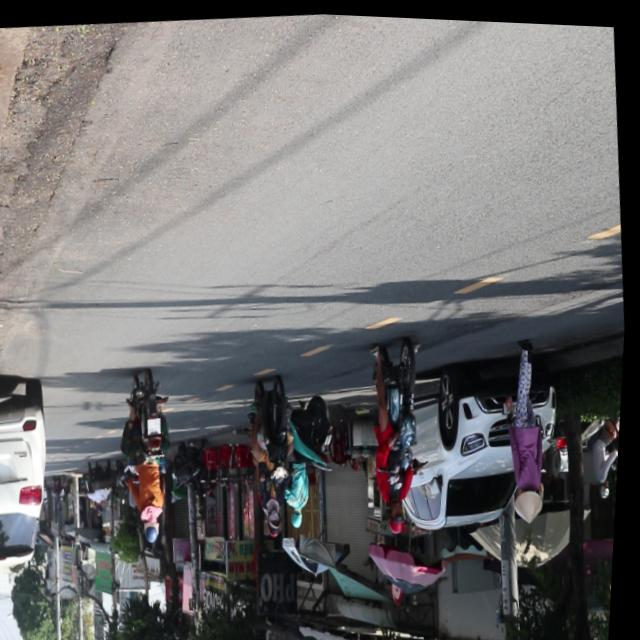helmet: (391, 497, 412, 532), (147, 514, 166, 542), (270, 504, 287, 534)
licenseplate: (361, 331, 438, 534), (115, 364, 187, 546), (243, 370, 307, 537)
nohelmet: (149, 414, 165, 432)
